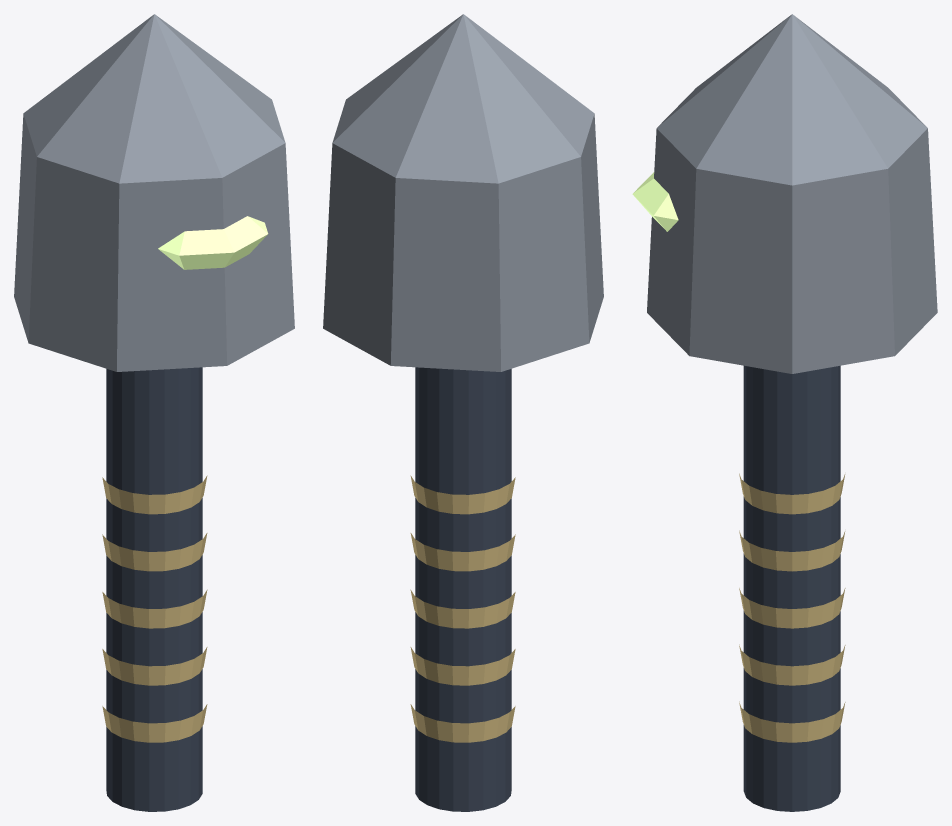
File: vhen_relic.gltf
3 views of the same model, side by side, from view 1: azimuth 30°, elevation 25°; view 2: azimuth 150°, elevation 25°; view 3: azimuth 270°, elevation 25° (orthographic).
Visible parts, largest first — view 1: vhen_trowel_relic_review; view 2: vhen_trowel_relic_review; view 3: vhen_trowel_relic_review.
Boxes of the visible parts, box(x1,y1,x2,y2) form: vhen_trowel_relic_review: box(14, 14, 294, 811); vhen_trowel_relic_review: box(323, 14, 603, 811); vhen_trowel_relic_review: box(632, 14, 937, 811).
Size of the model in its own units: 0.3 by 0.885 by 0.315.
